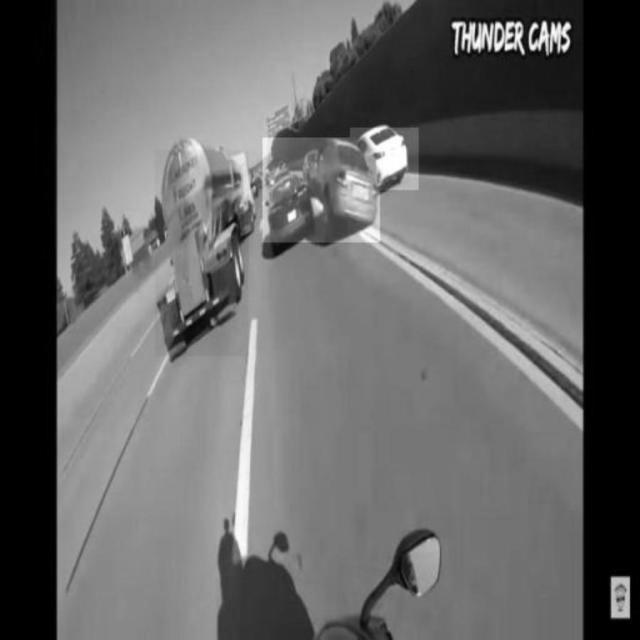accident: (263, 137, 381, 243)
vehicle: (156, 150, 249, 356), (350, 127, 418, 191)
